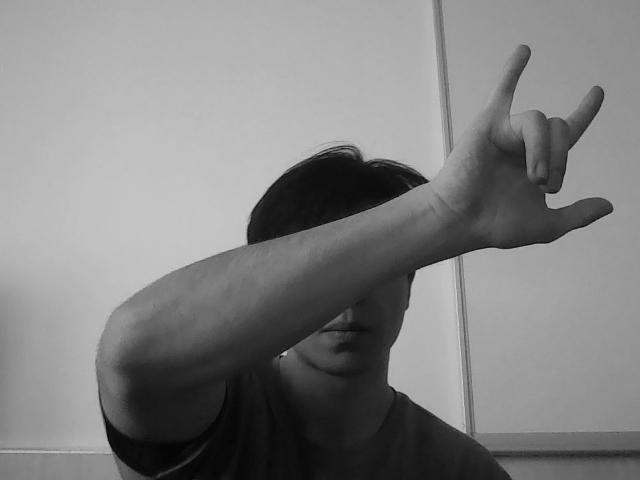I_Love_You: (451, 51, 619, 289)
